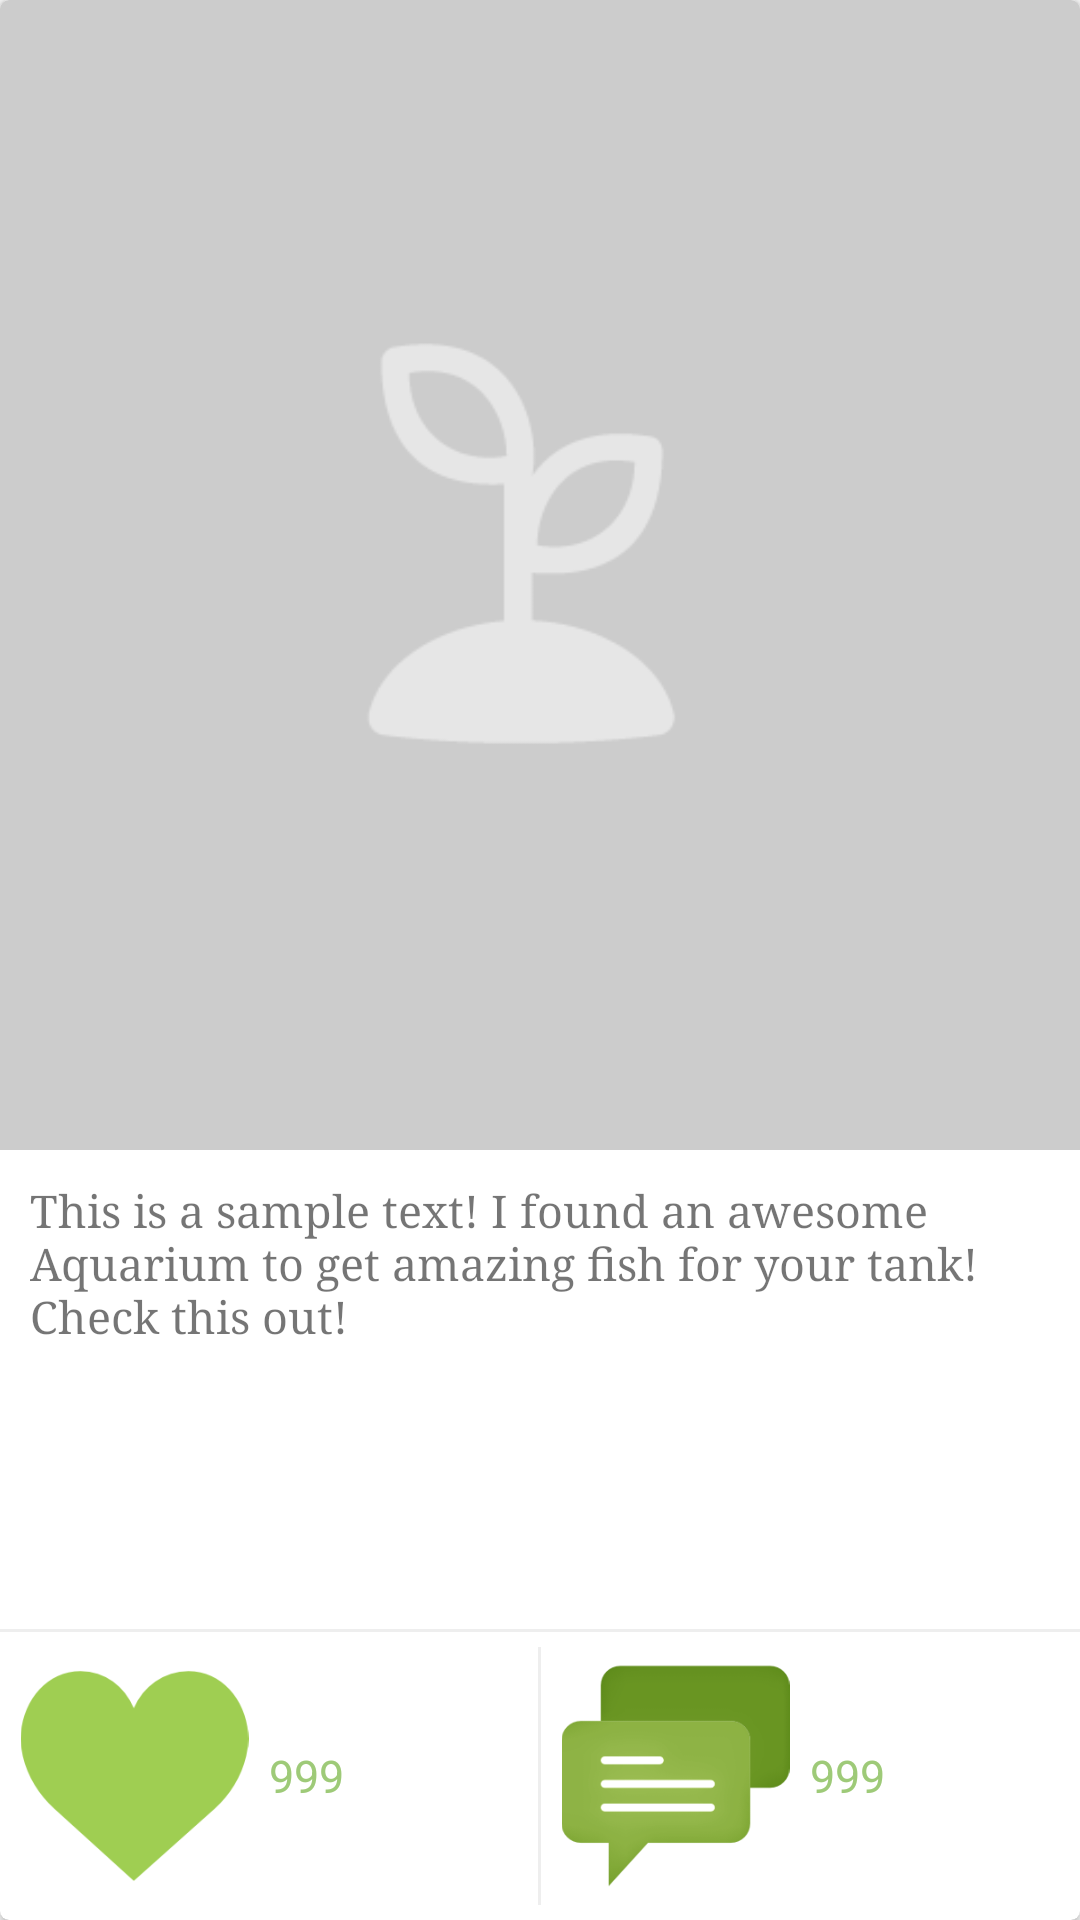

Where icons sit on this 1080×1920 app screen, as (x1, y1, x2, y2):
like: (21, 1671, 249, 1881)
reply: (562, 1665, 790, 1886)
